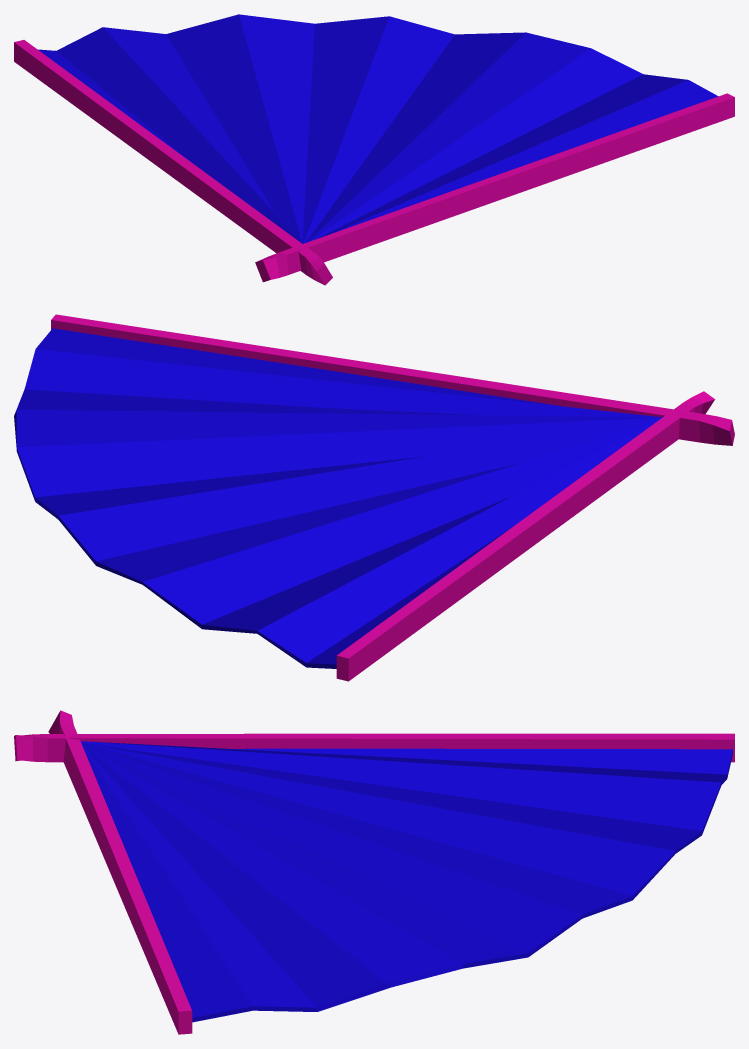
The model's file is Abanico.fbx.
3 views of the same model, one above another, from view 1: azimuth 30°, elevation 25°; view 2: azimuth 150°, elevation 25°; view 3: azimuth 270°, elevation 25° (orthographic). The views are drawn at different scales.
Parts seen in each view (by area): view 1: Cubo; view 2: Cubo; view 3: Cubo.
Part boxes in pixels (left/top/right/bottom): Cubo: left=14, top=14, right=734, bottom=285; Cubo: left=14, top=314, right=734, bottom=681; Cubo: left=14, top=710, right=734, bottom=1034.
Bounding box in the file's own units: 202 × 8.15 × 204.
